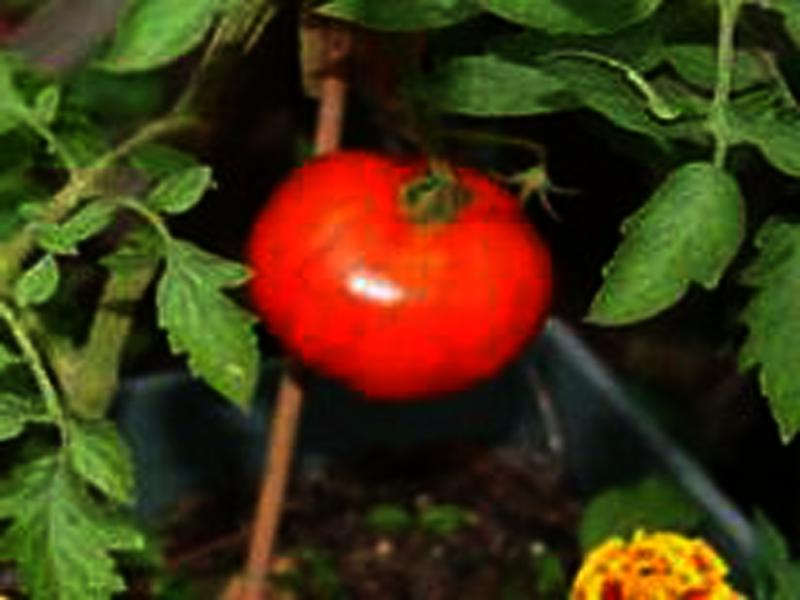Tomato: (240, 147, 558, 398)
